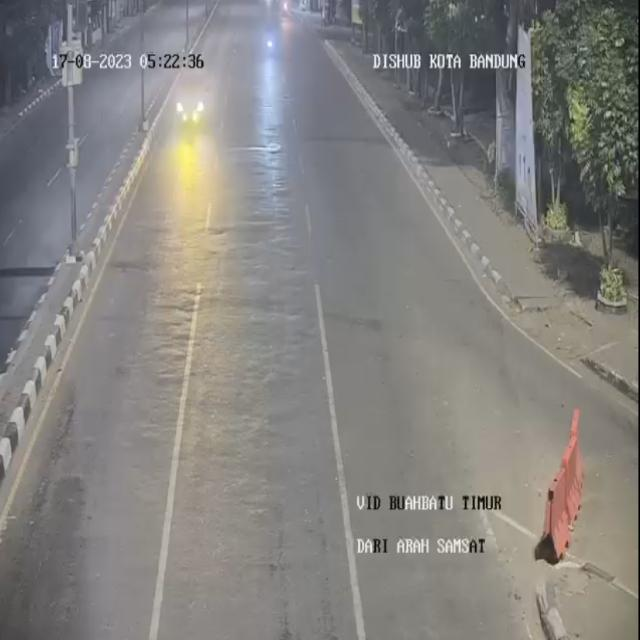cars: (166, 56, 220, 140)
